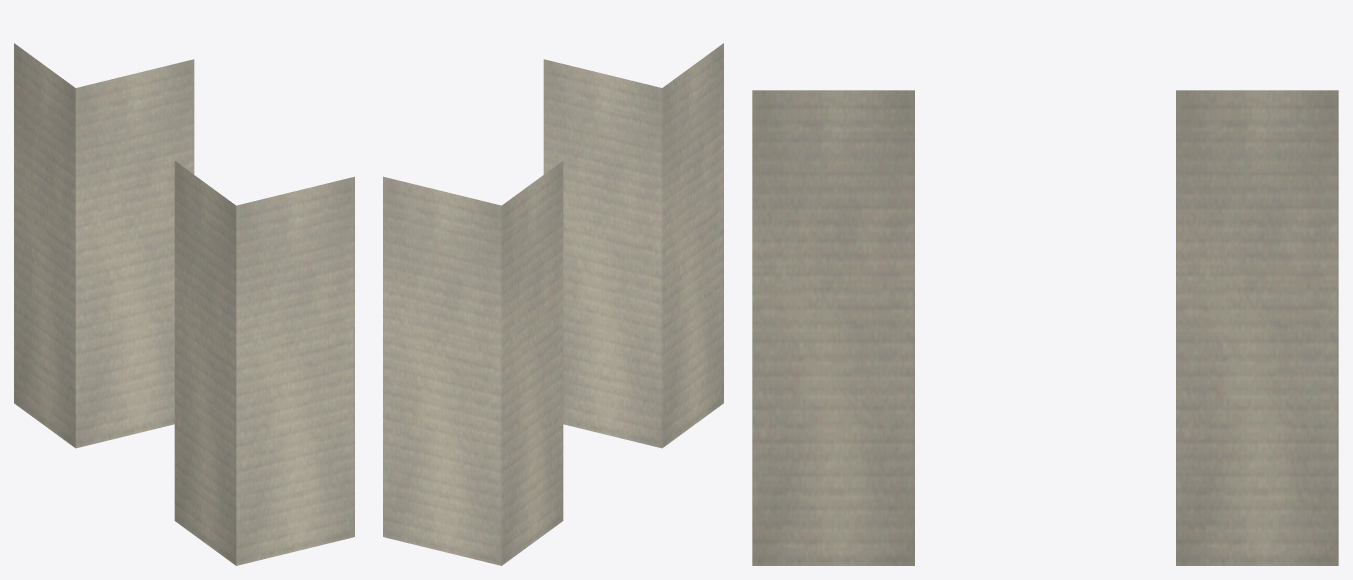
The picture shows the model from 3 angles, left to right: view 1: azimuth 30°, elevation 25°; view 2: azimuth 150°, elevation 25°; view 3: azimuth 270°, elevation 25°; orthographic projection. The views are drawn at different scales.
Visible parts, largest first — view 1: Box09; view 2: Box09; view 3: Box09.
Part boxes in pixels (left/top/right/bottom): Box09: left=14, top=43, right=354, bottom=565; Box09: left=383, top=43, right=723, bottom=565; Box09: left=752, top=90, right=1338, bottom=565.
Bounding box in the file's own units: 102 × 295 × 330.
1 material, 1 textured.
